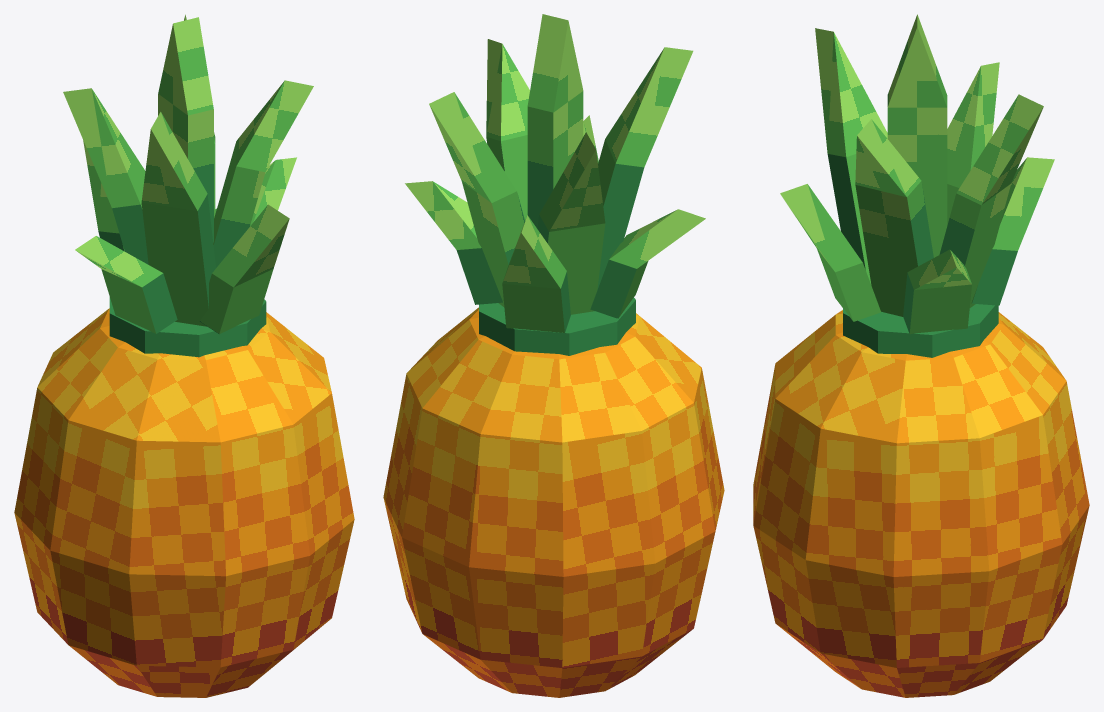
The model's file is pineapple.fbx.
The picture shows the model from 3 angles, left to right: view 1: azimuth 30°, elevation 25°; view 2: azimuth 150°, elevation 25°; view 3: azimuth 270°, elevation 25°; orthographic projection.
Visible parts, largest first — view 1: pineapple; view 2: pineapple; view 3: pineapple.
Part boxes in pixels (bbox=[...]): pineapple: bbox=[14, 14, 354, 697]; pineapple: bbox=[383, 14, 724, 697]; pineapple: bbox=[753, 14, 1089, 697].
Bounding box in the file's own units: 71.32 × 153 × 70.47.
Materials: 1 (1 with a texture image).
